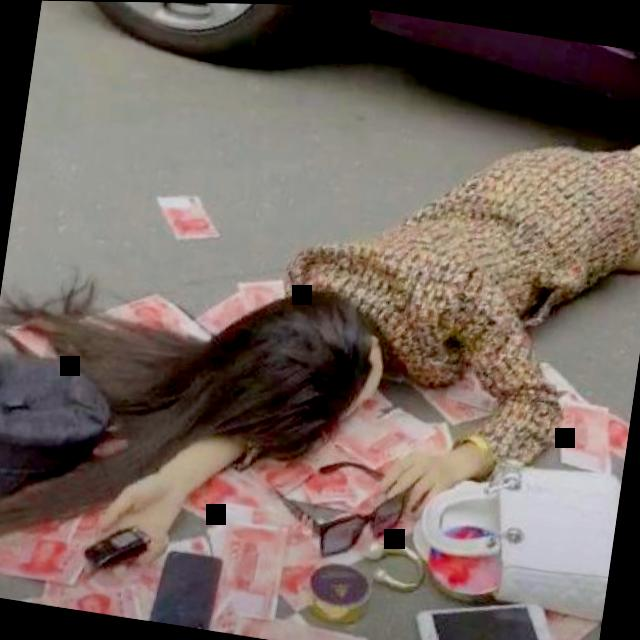Fall-Detected: (15, 0, 640, 586)
